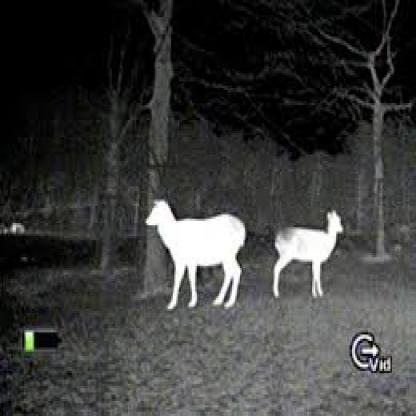rehkitze: (144, 199, 247, 314), (270, 211, 343, 304)
